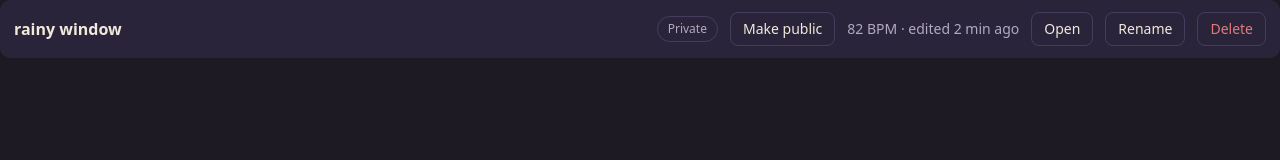
Test: MyBeatRow visibility (US-4) › makes a private beat public from My Beats
Check: the text "Private" is shown, box [657,16,718,42]
Click the button "Make public".
click(783, 29)  # box [730,12,835,46]
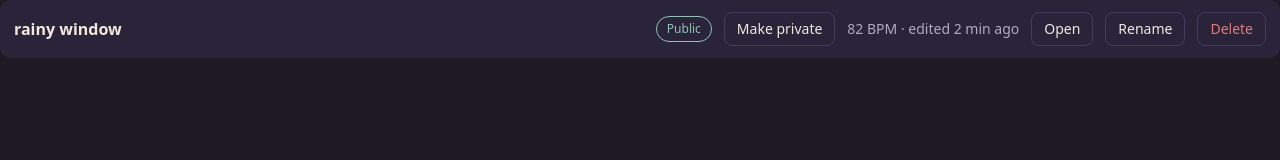
Check: the text "Public" is shown, box [656,16,712,42]
